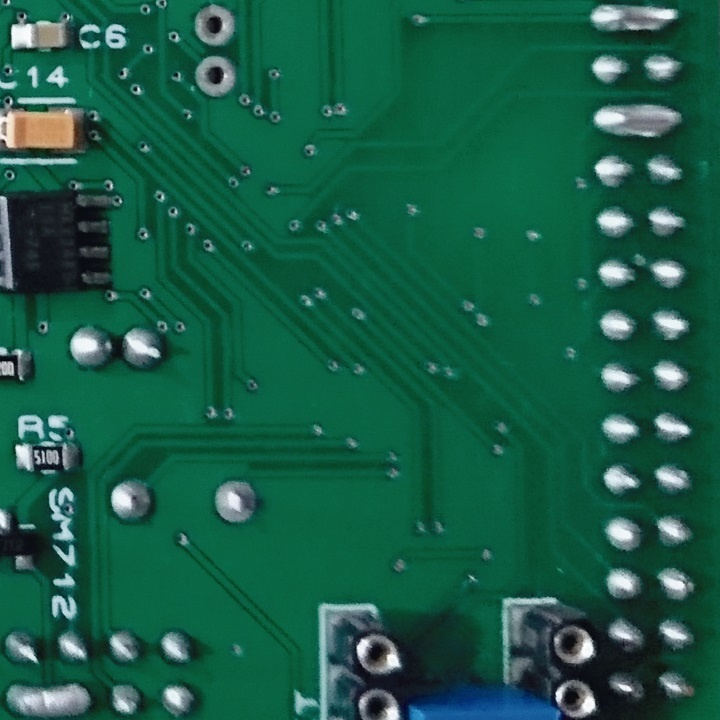F: (191, 50, 241, 99), (211, 477, 259, 526), (190, 4, 237, 50)
P: (589, 98, 684, 141), (584, 1, 685, 41), (3, 678, 96, 719)
